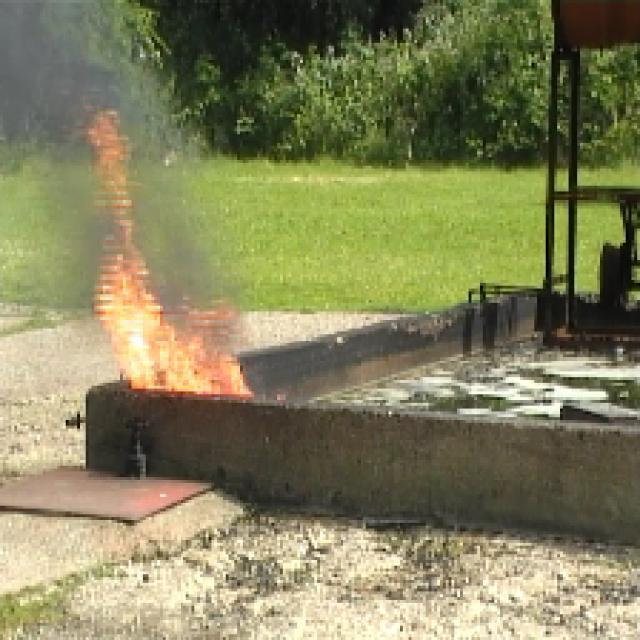Fire: (54, 107, 255, 444)
